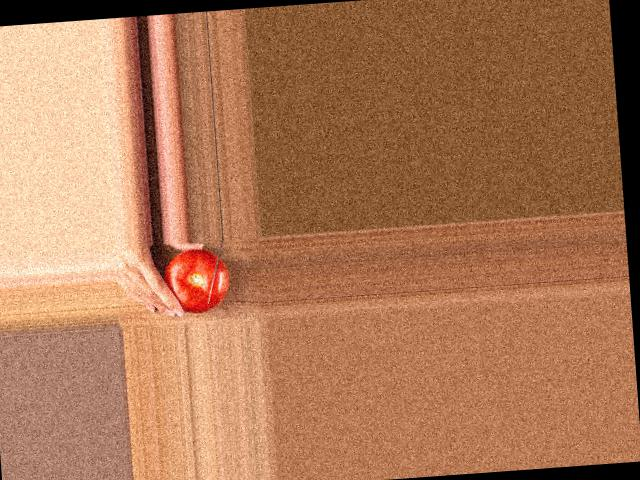tomato: (162, 247, 230, 314)
